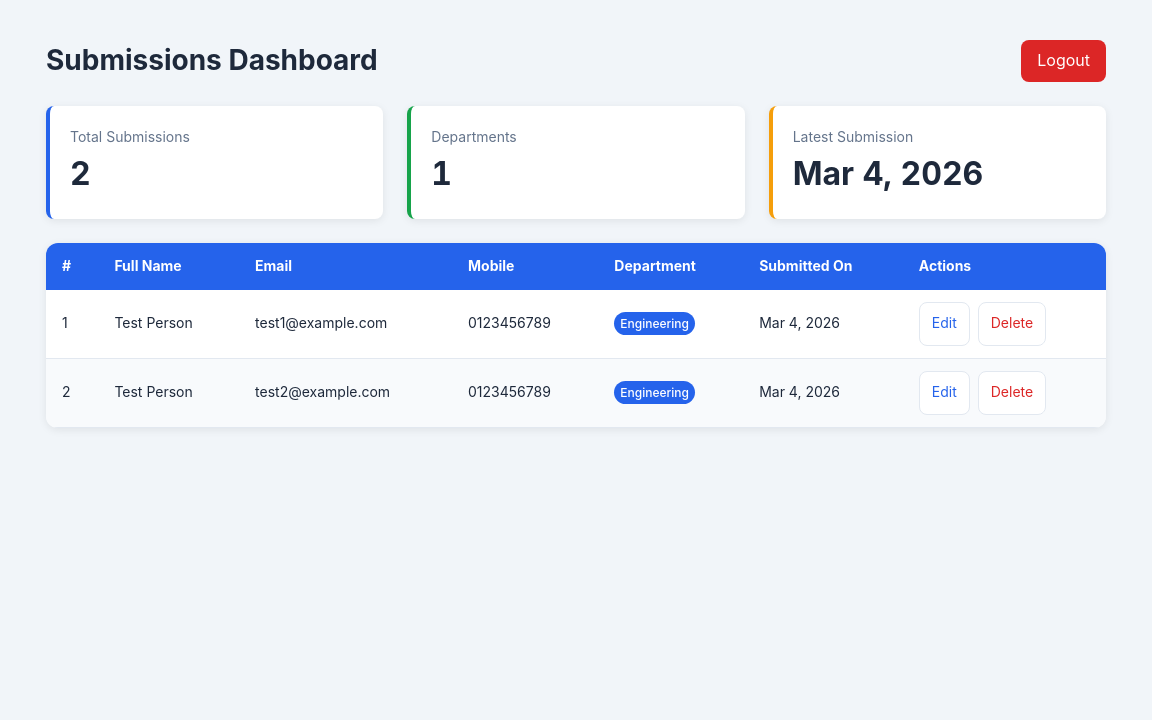
Test case: dashboard maintenance › refreshes missing target on edit and retains its error
What coordinates should you click on to do the following:
click the button "Edit" in the row of "test1@example.com"
I would click on:
 (944, 324)
Its box is [919, 302, 970, 346].
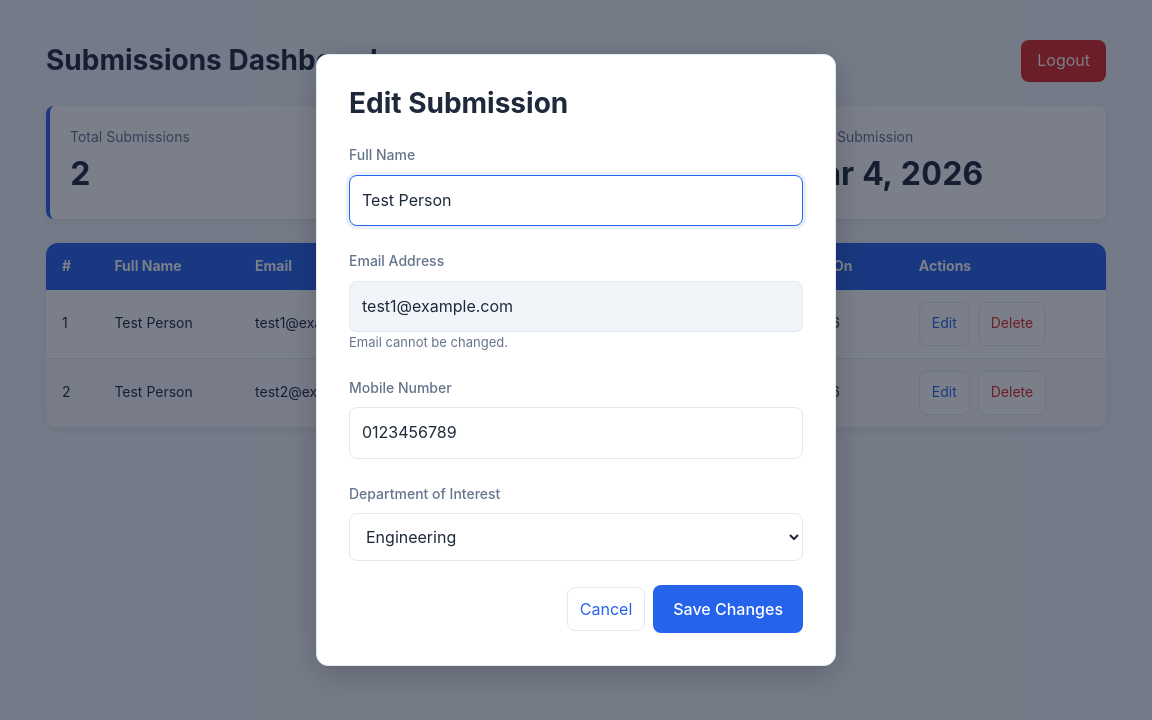
What coordinates should you click on to do the following:
click the button "Save Changes"
I would click on:
 (728, 609)
Its box is [653, 585, 803, 633].
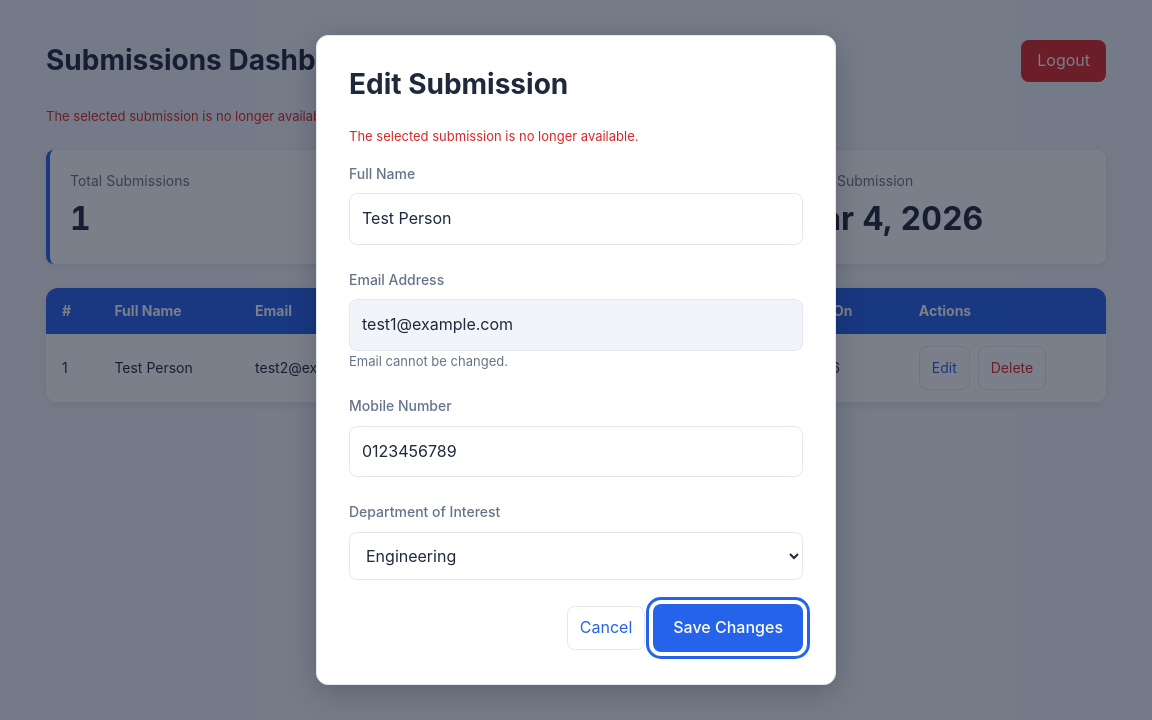
Expected: the dialog is shown, [316, 35, 836, 685]
Expected: the 1st message "The selected submission is no longer available." is shown, [46, 108, 336, 124]
